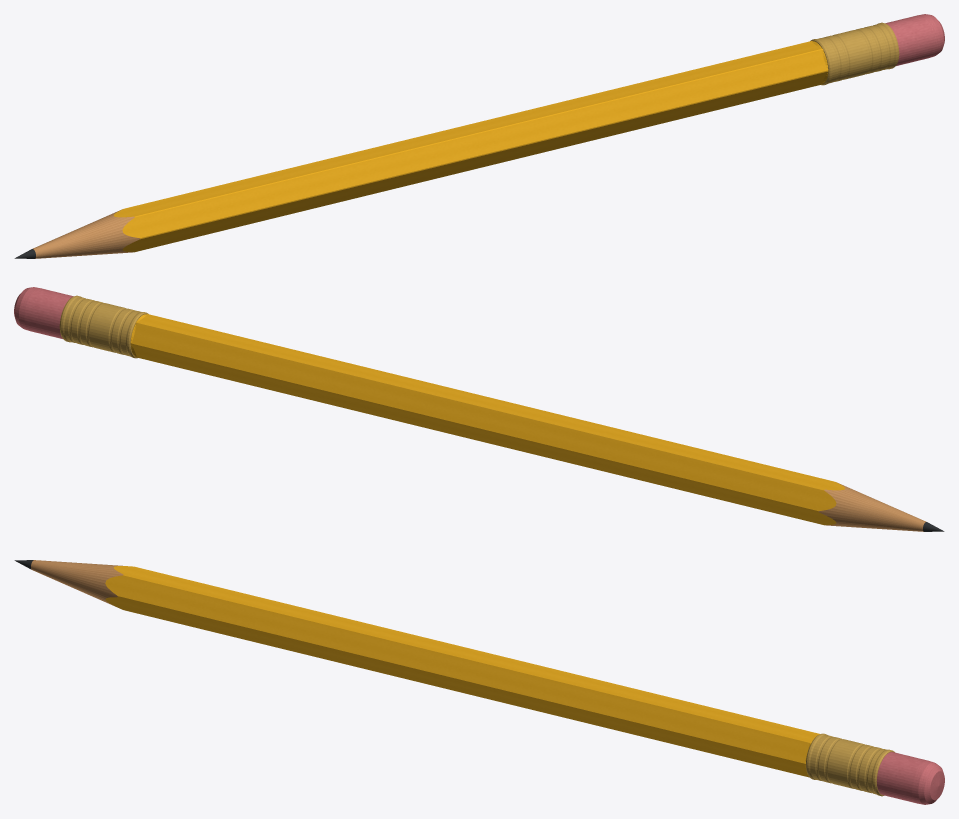
File: wooden_pencil_LOD0.glb
3 views of the same model, one above another, from view 1: azimuth 30°, elevation 25°; view 2: azimuth 150°, elevation 25°; view 3: azimuth 330°, elevation 25° (orthographic).
Parts seen in each view (by area): view 1: Continuous_hexagonal_wood_graphite_core, Hollow_crimped_brass_ferrule, Seated_pink_eraser; view 2: Continuous_hexagonal_wood_graphite_core, Hollow_crimped_brass_ferrule, Seated_pink_eraser; view 3: Continuous_hexagonal_wood_graphite_core, Hollow_crimped_brass_ferrule, Seated_pink_eraser.
Boxes of the visible parts, left/top/right/bottom form: Continuous_hexagonal_wood_graphite_core: left=14, top=41, right=828, bottom=258; Hollow_crimped_brass_ferrule: left=810, top=22, right=899, bottom=85; Seated_pink_eraser: left=885, top=14, right=944, bottom=65; Continuous_hexagonal_wood_graphite_core: left=130, top=314, right=944, bottom=531; Hollow_crimped_brass_ferrule: left=59, top=295, right=148, bottom=358; Seated_pink_eraser: left=14, top=287, right=73, bottom=338; Continuous_hexagonal_wood_graphite_core: left=14, top=560, right=819, bottom=777; Hollow_crimped_brass_ferrule: left=806, top=733, right=894, bottom=796; Seated_pink_eraser: left=876, top=752, right=944, bottom=804.
Bounding box in the file's own units: 0.19 × 0.0084 × 0.0084.
Materials: 5 (4 with a texture image).
